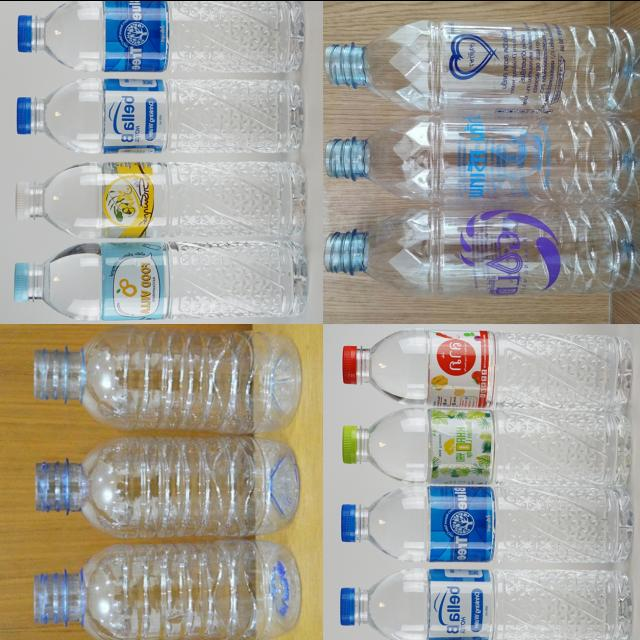plastik: (324, 19, 640, 114), (324, 204, 640, 296), (35, 326, 301, 433), (326, 114, 640, 203), (35, 539, 300, 640), (36, 435, 298, 537), (342, 328, 632, 410), (14, 240, 307, 321), (342, 407, 632, 486), (341, 484, 633, 562), (16, 161, 305, 238), (17, 77, 303, 152), (340, 568, 631, 640), (18, 0, 303, 72)
